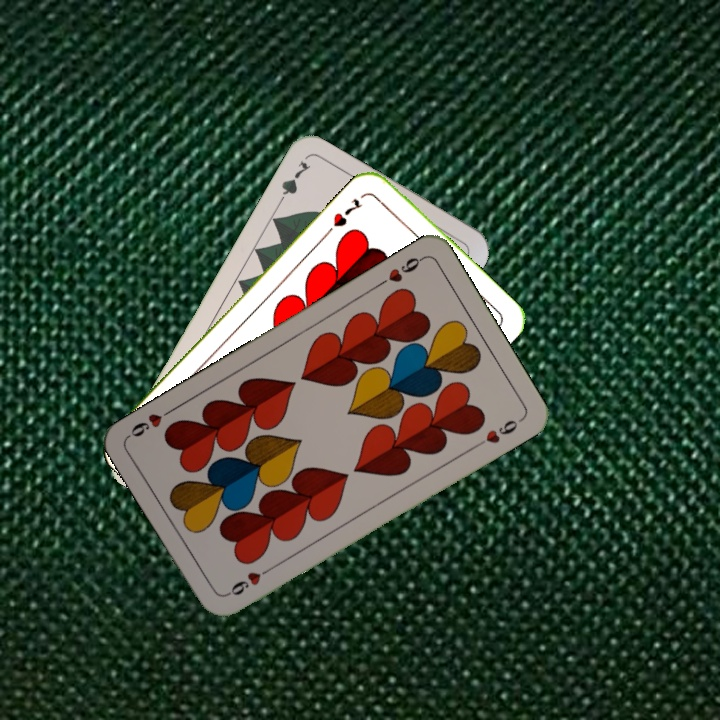G7: (272, 157, 314, 210)
H7: (329, 195, 366, 230)
H9: (374, 252, 427, 289), (222, 563, 276, 599)
